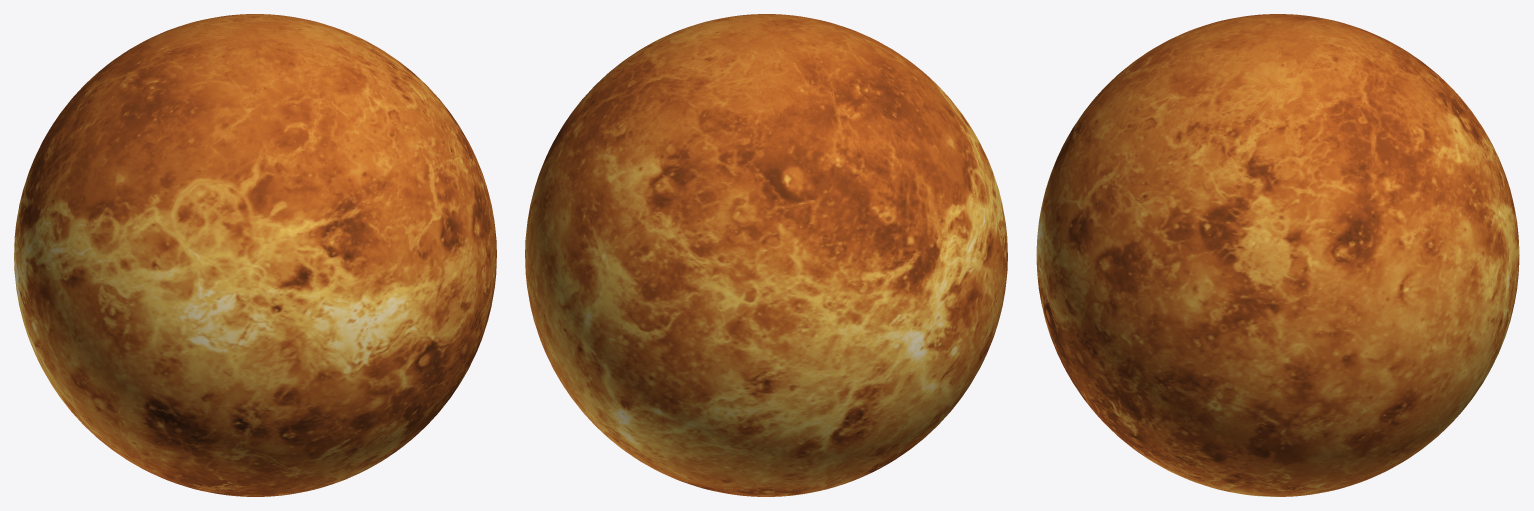
Rendered from venus.gltf.
The picture shows the model from 3 angles, left to right: view 1: azimuth 30°, elevation 25°; view 2: azimuth 150°, elevation 25°; view 3: azimuth 270°, elevation 25°; orthographic projection.
Parts seen in each view (by area): view 1: Sphere; view 2: Sphere; view 3: Sphere.
Boxes of the visible parts, x1,y1,x2,y2 form: Sphere: (14,14,496,496); Sphere: (525,14,1007,496); Sphere: (1036,14,1519,496).
Size of the model in its own units: 2 by 2 by 2.
1 material, 1 textured.
